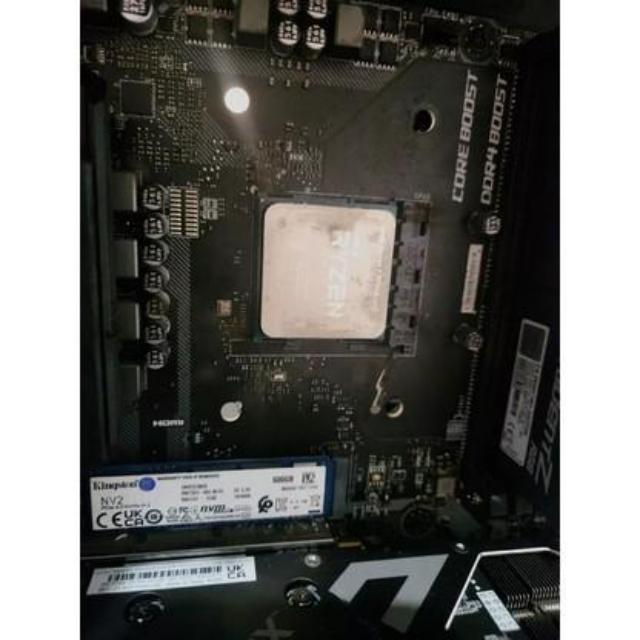CPU: (262, 199, 396, 344)
